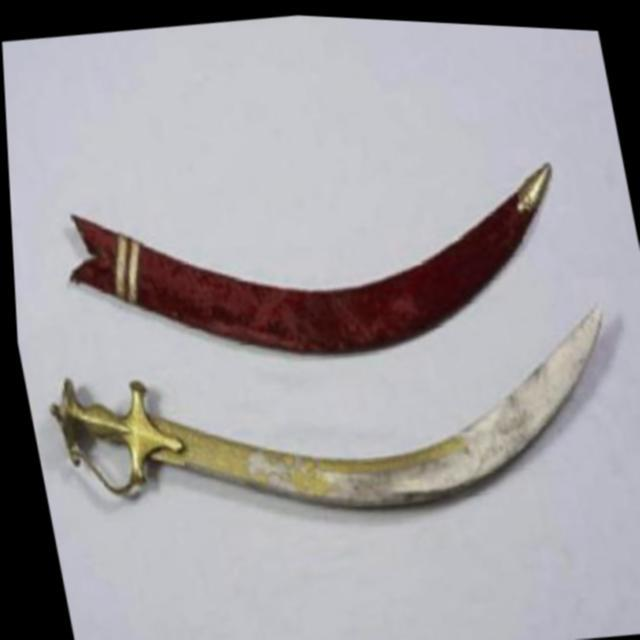weapon: (30, 272, 635, 560), (48, 134, 584, 397)
